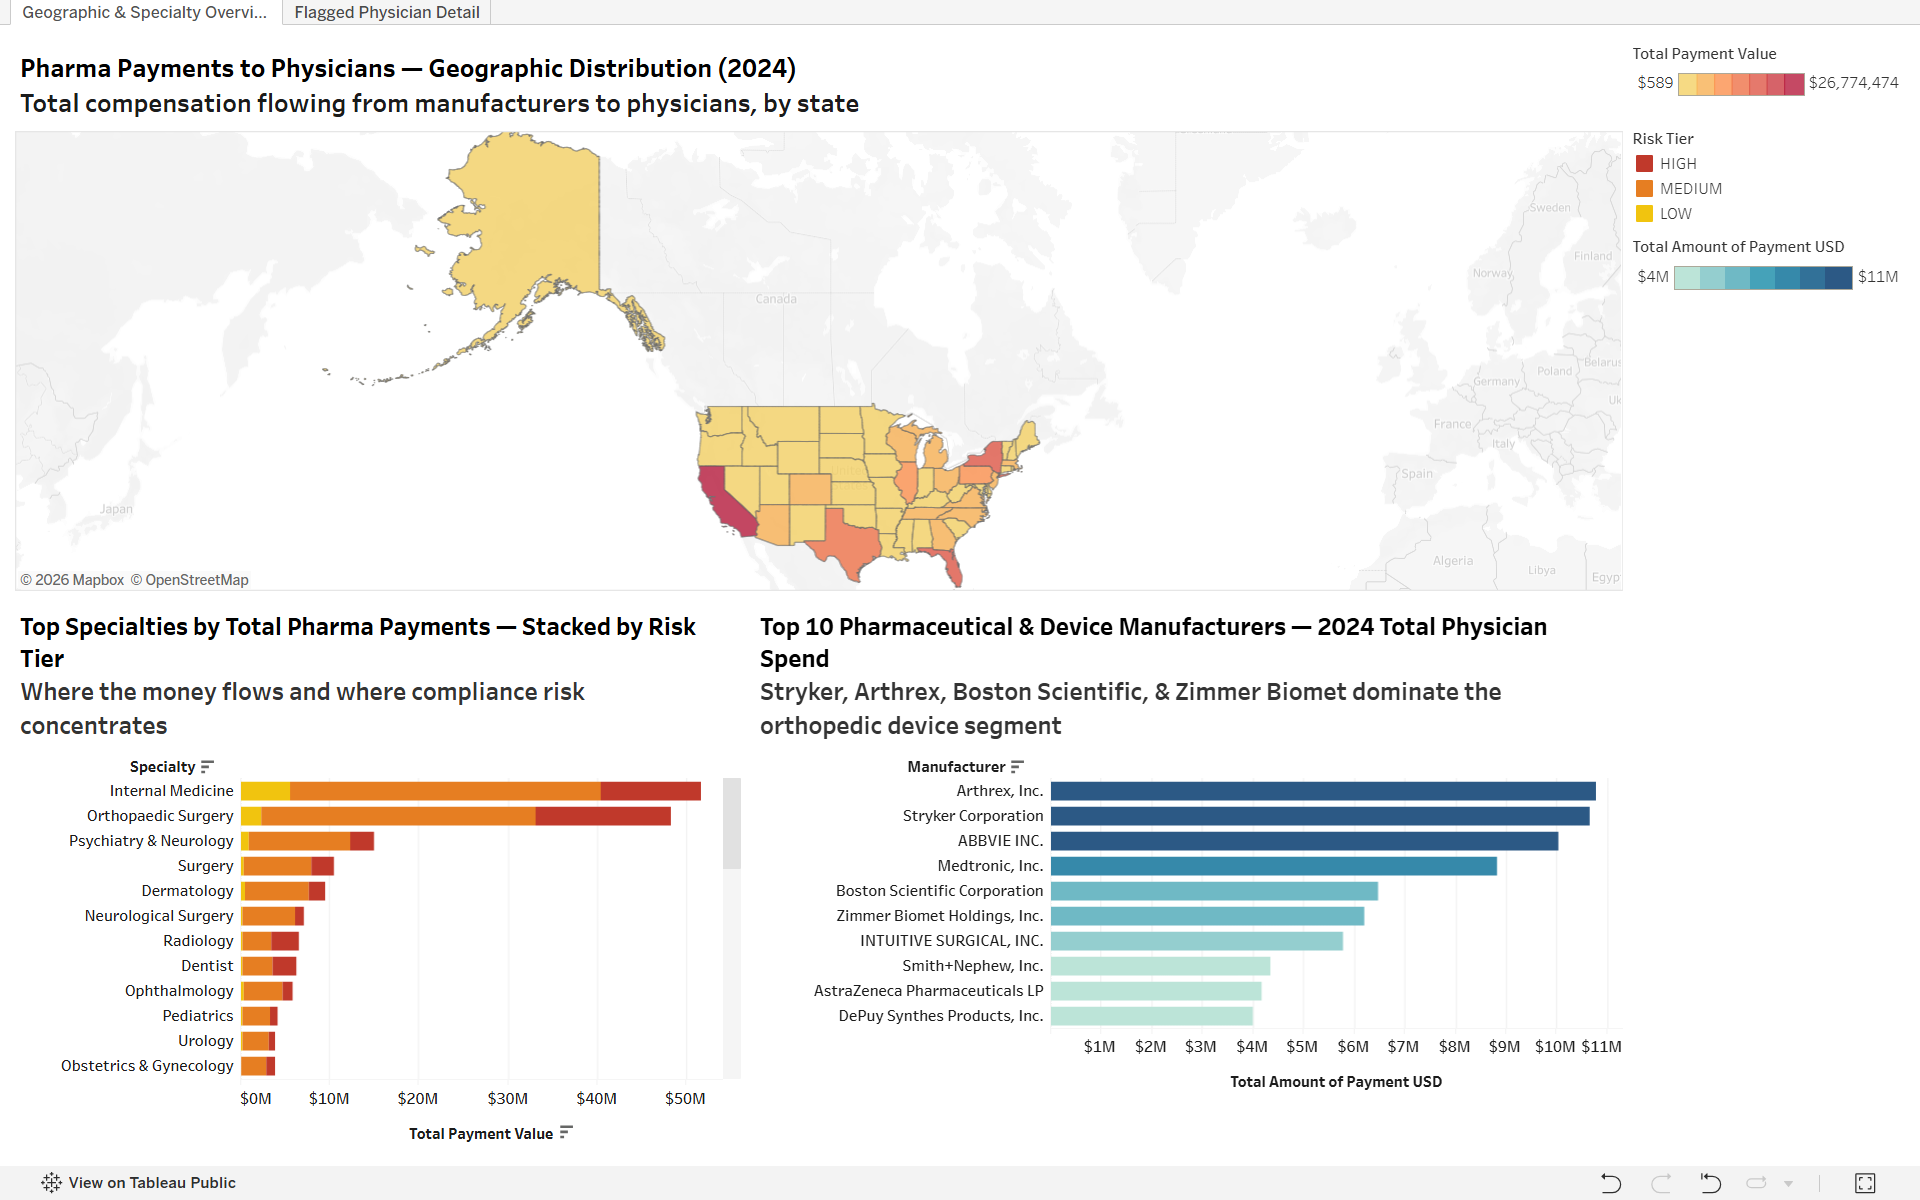

The dashboard page shown, as its layout file describes it:
{"tool":"tableau","page":{"name":"Geographic & Specialty Overview","canvas":[1000,1000],"units":"permille","ordinal":1},"visuals":[{"type":"worksheet","title":"1. Geographic Heatmap","mark":"Multipolygon","box":[4.2,10,871.8,490]},{"type":"legend","title":"1. Geographic Heatmap","param":"[federated.0rxctdx1er5ywg11kjhc00sm5ec5].[sum:total_payment_value:qk]","box":[876.1,10,119.7,91.1]},{"type":"legend","title":"2. Risk by Specialty","param":"[federated.0rxctdx1er5ywg11kjhc00sm5ec5].[none:risk_tier:nk]","box":[876.1,101.1,119.7,116.1]},{"type":"legend","title":"4. Top Companies by Spend","param":"[federated.0rxctdx1er5ywg11kjhc00sm5ec5].[sum:Total_Amount_of_Payment_USDollars:","box":[876.1,217.2,119.7,91.1]},{"type":"worksheet","title":"2. Risk by Specialty","mark":"Automatic","rows":["Calculation_1627344113016832"],"cols":["total_payment_value"],"box":[4.2,500,399.2,490]},{"type":"worksheet","title":"4. Top Companies by Spend","mark":"Bar","rows":["Applicable_Manufacturer_or_Applicable_GPO_Making_Payment_Nam"],"cols":["Total_Amount_of_Payment_USDollars"],"box":[403.4,500,472.6,490]}]}

Visuals, with their boxes on the dashboard's canvas, which has no fixed pixel size, in thousandths of its width and height (x1, y1, x2, y2). These are canvas units, not pixel positions in the 1920x1200 screenshot, which may show the page scaled, cropped or inside an application window:
"1. Geographic Heatmap" worksheet (Multipolygon marks): select_region(4, 10, 876, 500)
"1. Geographic Heatmap" legend: select_region(876, 10, 996, 101)
"2. Risk by Specialty" legend: select_region(876, 101, 996, 217)
"4. Top Companies by Spend" legend: select_region(876, 217, 996, 308)
"2. Risk by Specialty" worksheet: select_region(4, 500, 403, 990)
"4. Top Companies by Spend" worksheet (Bar marks): select_region(403, 500, 876, 990)
